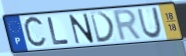C: (22, 15, 49, 51)
D: (88, 11, 117, 45)
L: (46, 16, 72, 47)
N: (68, 12, 96, 45)
R: (113, 8, 145, 44)
U: (136, 6, 164, 39)
